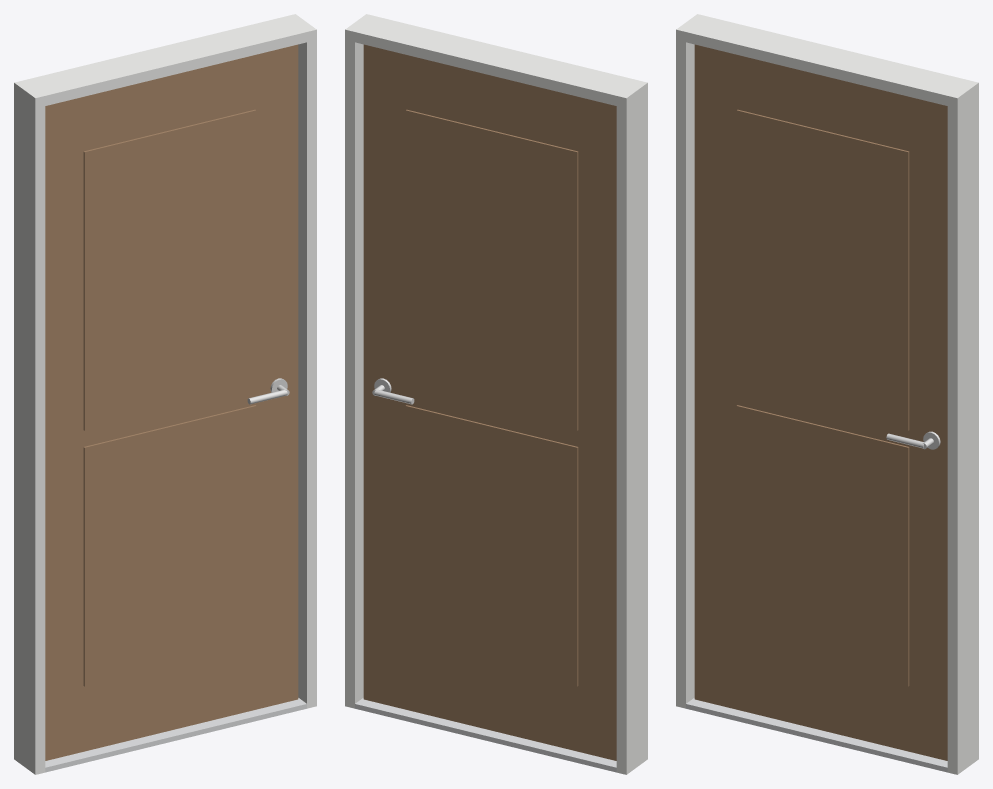
Rendered from opening.door.external.glb.
3 renders of one model, left to right at view 1: azimuth 30°, elevation 25°; view 2: azimuth 150°, elevation 25°; view 3: azimuth 330°, elevation 25°, orthographic.
Parts seen in each view (by area): view 1: leaf__hardwood, frame__paint_white, frame__aluminium; view 2: leaf__hardwood, frame__paint_white, frame__aluminium; view 3: leaf__hardwood, frame__paint_white, frame__aluminium, ironmongery__steel_stainless.
Part boxes in pixels (x1,y1,x2,y2): leaf__hardwood: (45, 44, 298, 760); frame__paint_white: (14, 14, 316, 774); frame__aluminium: (45, 698, 306, 772); leaf__hardwood: (363, 44, 616, 760); frame__paint_white: (345, 14, 647, 774); frame__aluminium: (355, 698, 616, 772); leaf__hardwood: (694, 44, 947, 760); frame__paint_white: (676, 14, 978, 774); frame__aluminium: (686, 698, 947, 772); ironmongery__steel_stainless: (886, 431, 940, 449).
Bounding box in the file's own units: 0.914 × 2.1 × 0.148.
